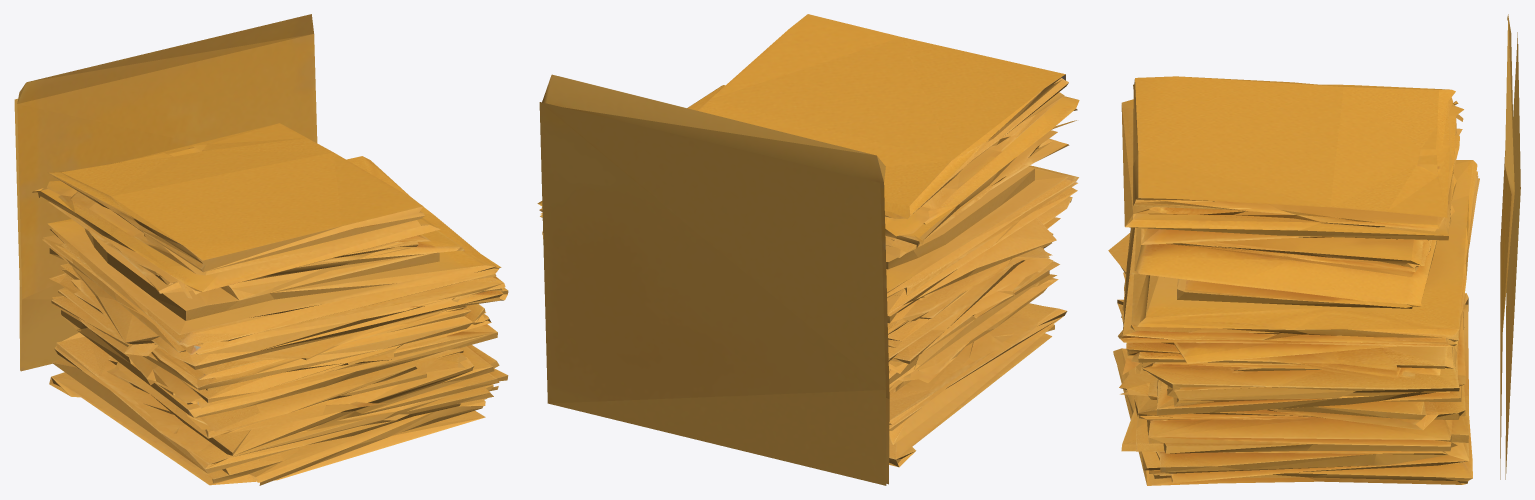
File: fogli_N.glb
The picture shows the model from 3 angles, left to right: view 1: azimuth 30°, elevation 25°; view 2: azimuth 150°, elevation 25°; view 3: azimuth 270°, elevation 25°; orthographic projection. The views are drawn at different scales.
Size of the model in its own units: 1.9 by 1.43 by 1.7.
1 material, 1 textured.
